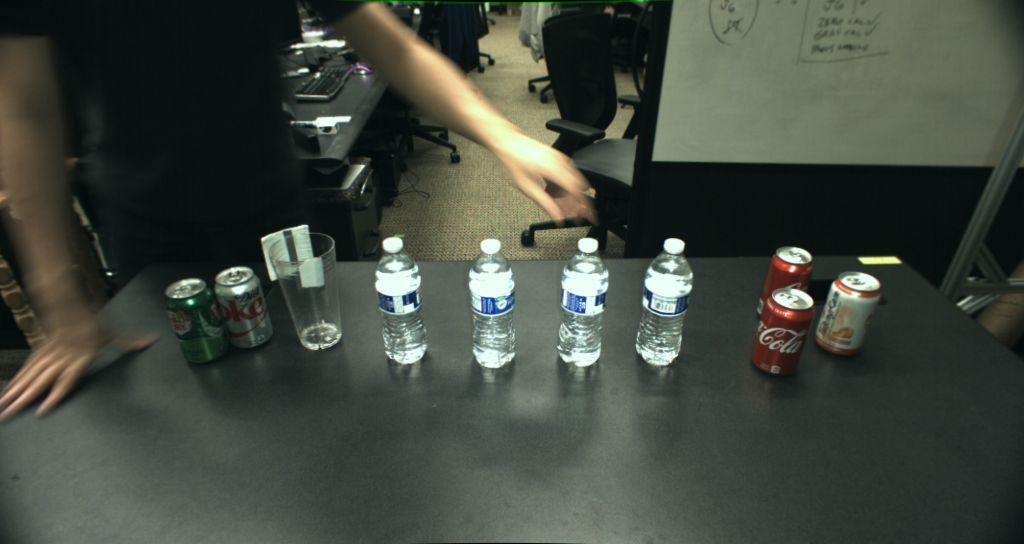can_coke: (751, 286, 813, 377), (756, 247, 813, 323)
can_diet_coke: (214, 266, 273, 350)
can_ginger_ale: (166, 276, 230, 366)
can_talking_rain_peach_nectarine: (815, 269, 881, 356)
water_bottle: (635, 238, 692, 366), (375, 237, 427, 365), (558, 237, 608, 367), (468, 238, 515, 368)
